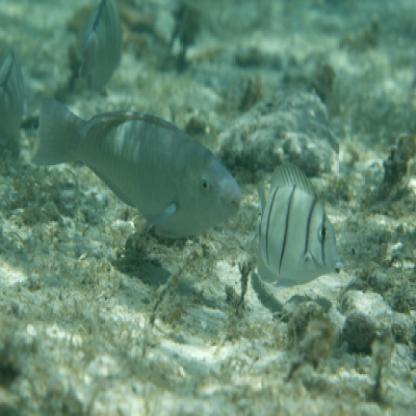parrot: (39, 82, 242, 236)
surgeon: (249, 159, 354, 290)
